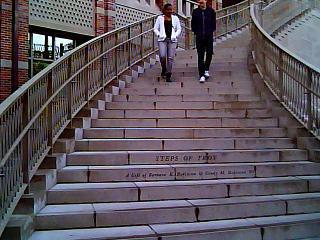Escaleras: (25, 56, 319, 239), (175, 2, 305, 52)
